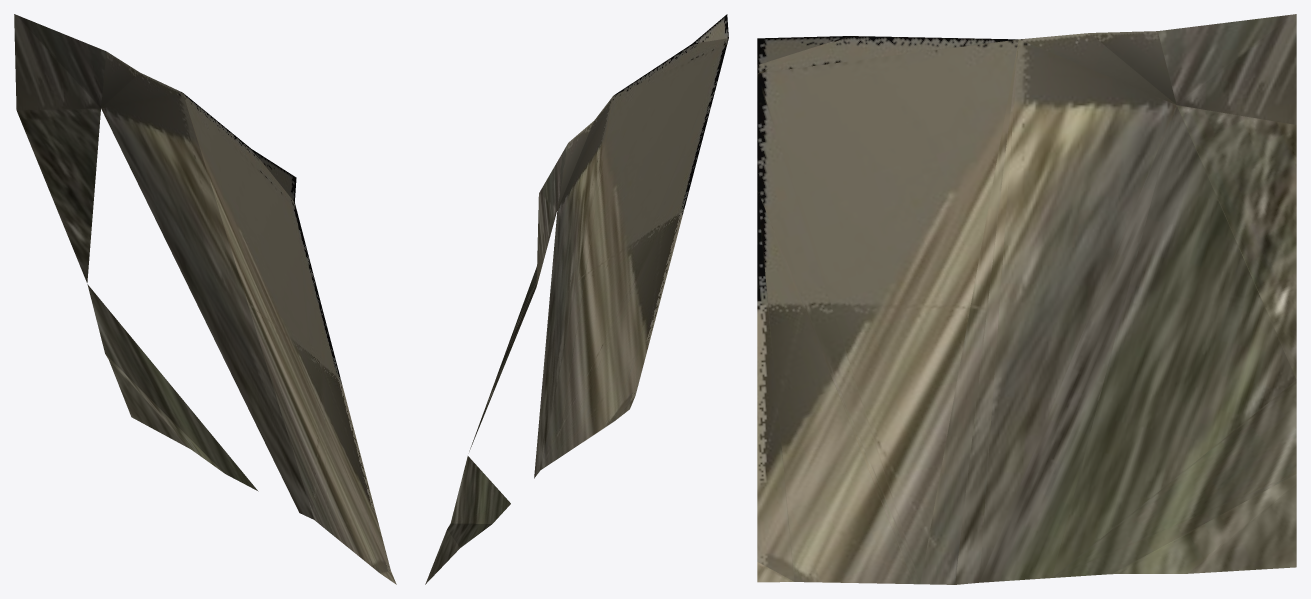
The picture shows the model from 3 angles, left to right: view 1: azimuth 30°, elevation 25°; view 2: azimuth 150°, elevation 25°; view 3: azimuth 270°, elevation 25°; orthographic projection. The views are drawn at different scales.
Size of the model in its own units: 2.13 by 5.9 by 5.9.
Materials: 3 (3 with a texture image).
